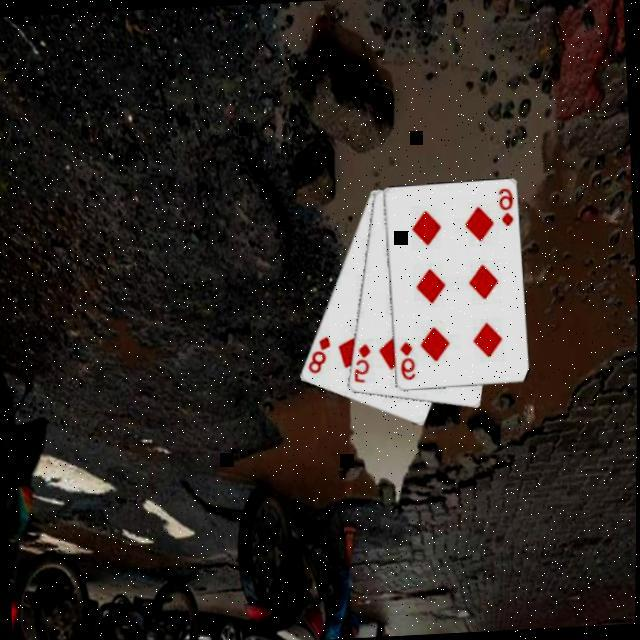5D: (348, 342, 372, 387)
6D: (494, 187, 515, 230), (396, 340, 416, 384)
8D: (302, 334, 332, 377)
